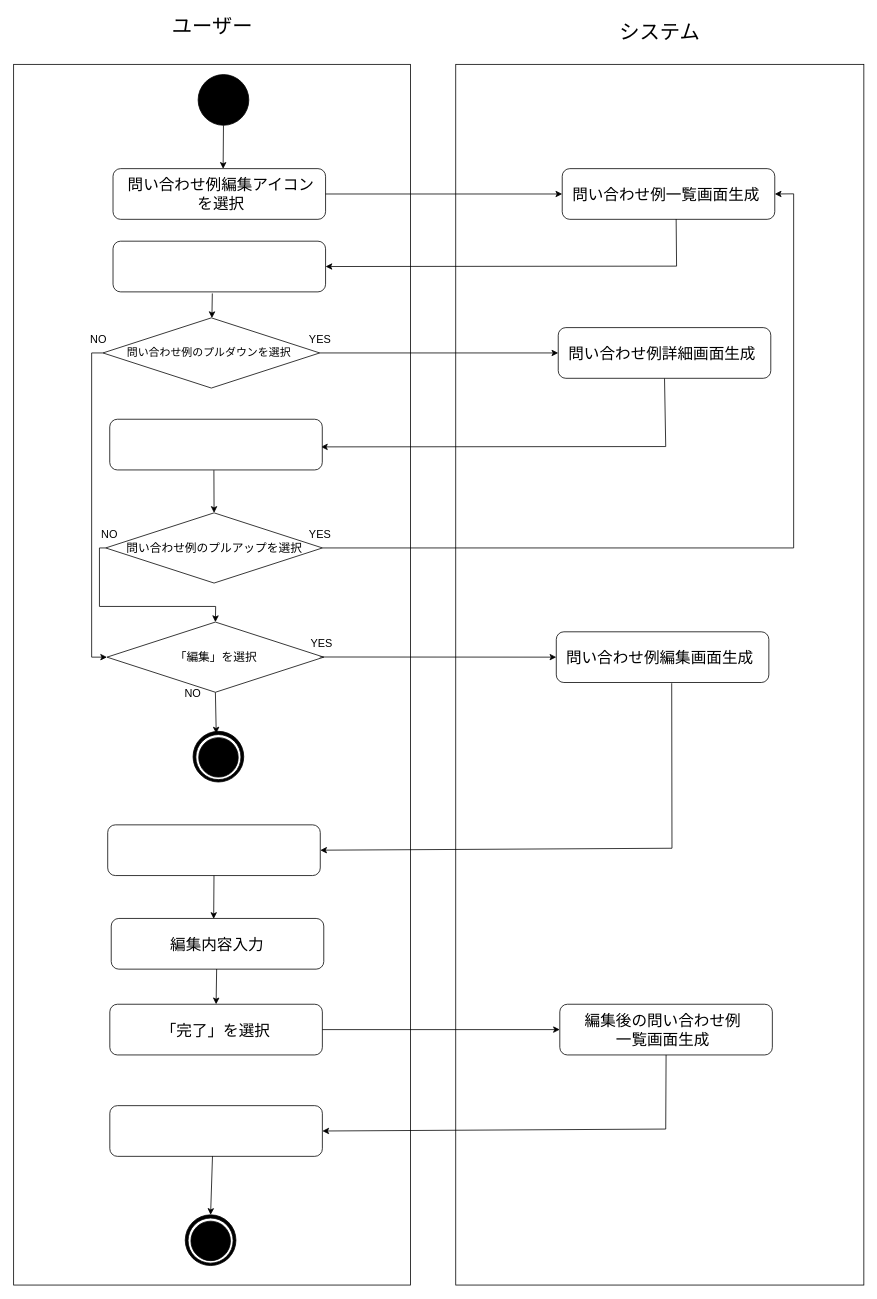
This 877x1299 diagram has some shape labels left out. Each missing label, with the centre of its shape:
問い合わせ例 一覧 画面表示: point (219, 266)
問い合わせ例編集 画面表示: point (213, 850)
問い合わせ例詳細画面表示: point (215, 444)
編集後の問い合わせ例一覧 画面表示: point (215, 1130)
